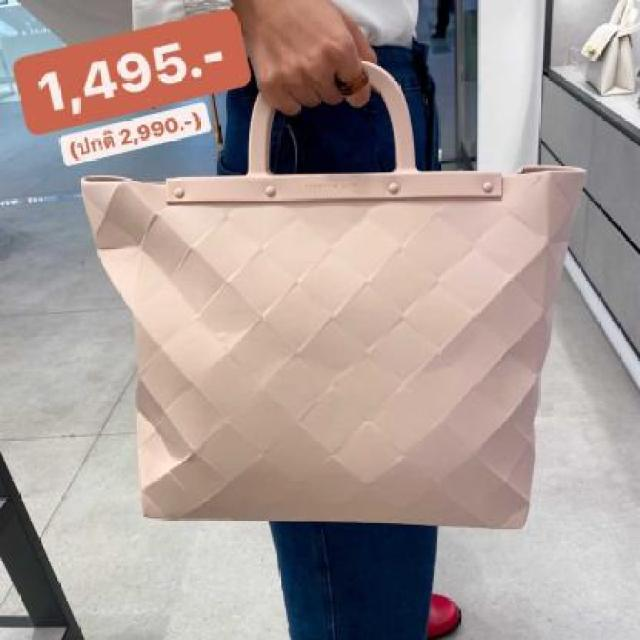Bag: (68, 55, 586, 558)
